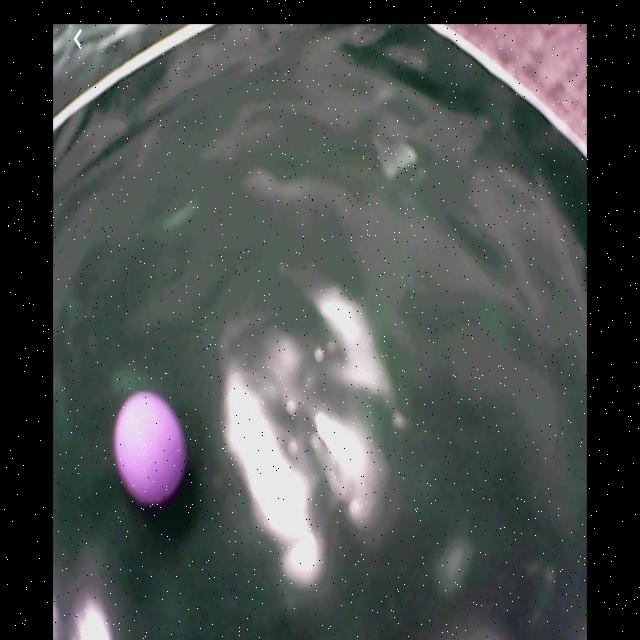ball: (115, 393, 185, 506)
